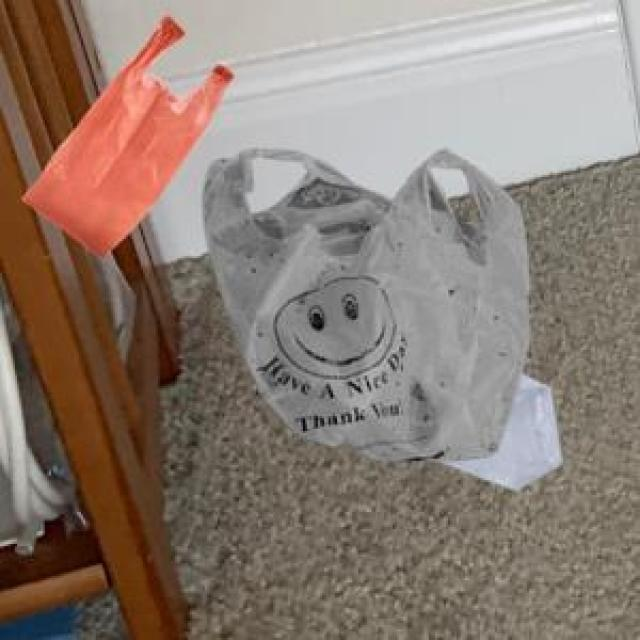waste: (204, 149, 562, 489), (24, 19, 232, 251)
